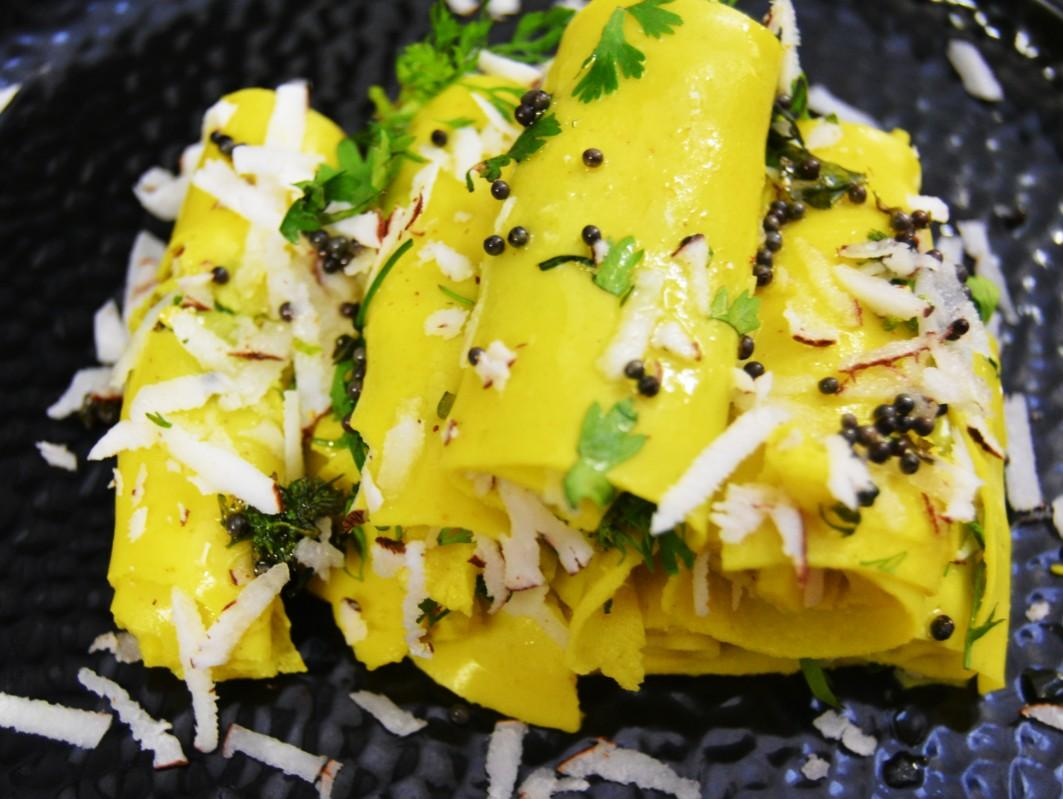khandvi: (62, 0, 1063, 772)
